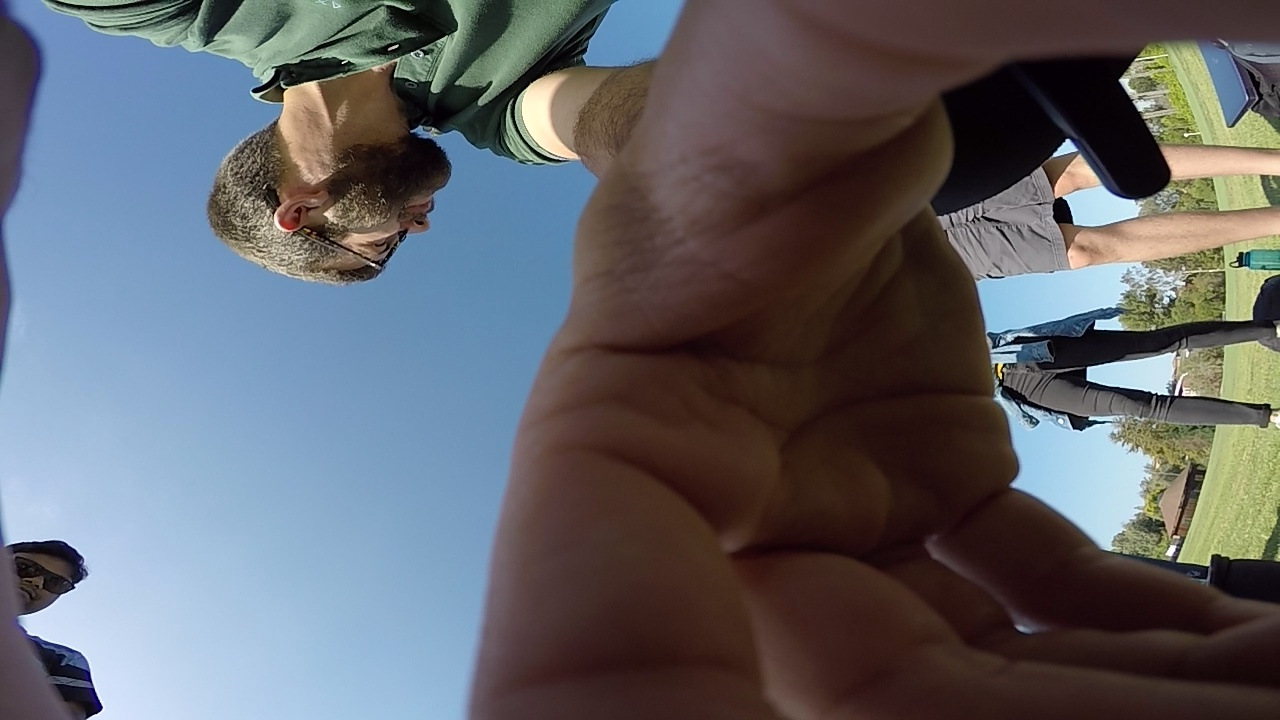person: (249, 18, 1280, 663), (29, 16, 1102, 504), (473, 183, 1254, 705), (622, 40, 1266, 627), (65, 34, 721, 412), (45, 0, 616, 288), (3, 532, 98, 712)
